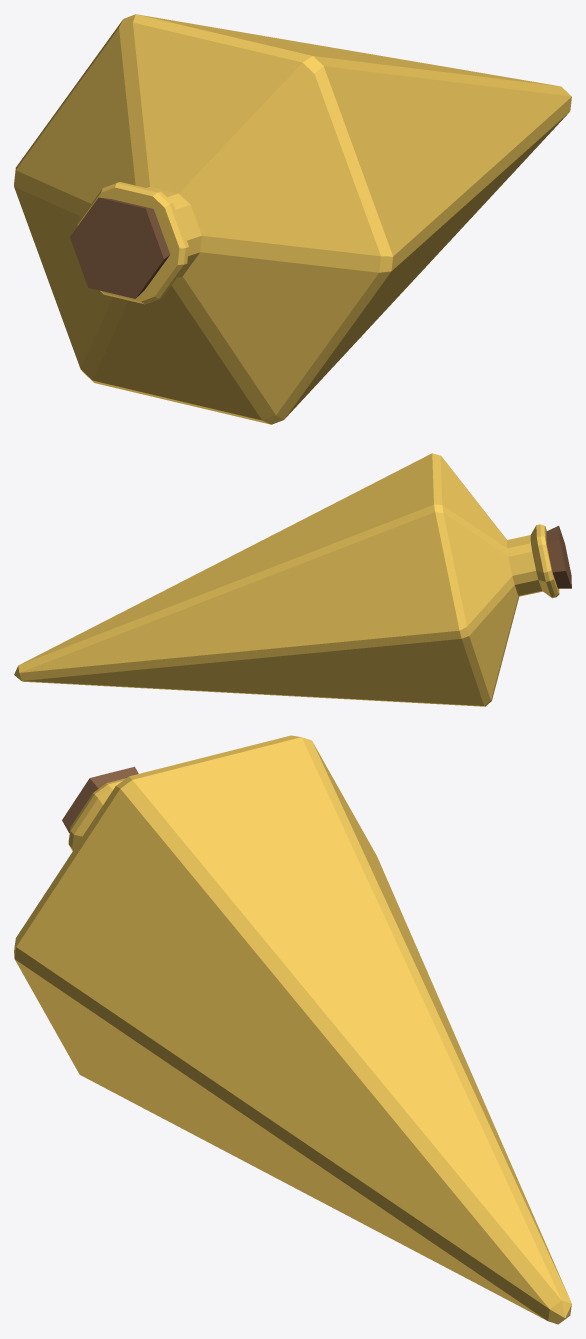
The model's file is Potion_01_Yellow.fbx.
The picture shows the model from 3 angles, top to bottom: view 1: azimuth 30°, elevation 25°; view 2: azimuth 150°, elevation 25°; view 3: azimuth 270°, elevation 25°; orthographic projection. The views are drawn at different scales.
Parts seen in each view (by area): view 1: Cone.008, Cylinder.025, Cylinder.024; view 2: Cone.008, Cylinder.024, Cylinder.025; view 3: Cone.008, Cylinder.024, Cylinder.025.
Boxes of the visible parts, x1=… form: Cone.008: x1=14, y1=14, x2=571, y2=424; Cylinder.025: x1=70, y1=197, x2=170, y2=298; Cylinder.024: x1=77, y1=182, x2=201, y2=304; Cone.008: x1=14, y1=453, x2=518, y2=706; Cylinder.024: x1=507, y1=524, x2=559, y2=598; Cylinder.025: x1=546, y1=525, x2=571, y2=588; Cone.008: x1=14, y1=735, x2=571, y2=1324; Cylinder.024: x1=68, y1=778, x2=125, y2=851; Cylinder.025: x1=62, y1=766, x2=138, y2=833.
Size of the model in its own units: 31.74 by 14.47 by 22.3.
